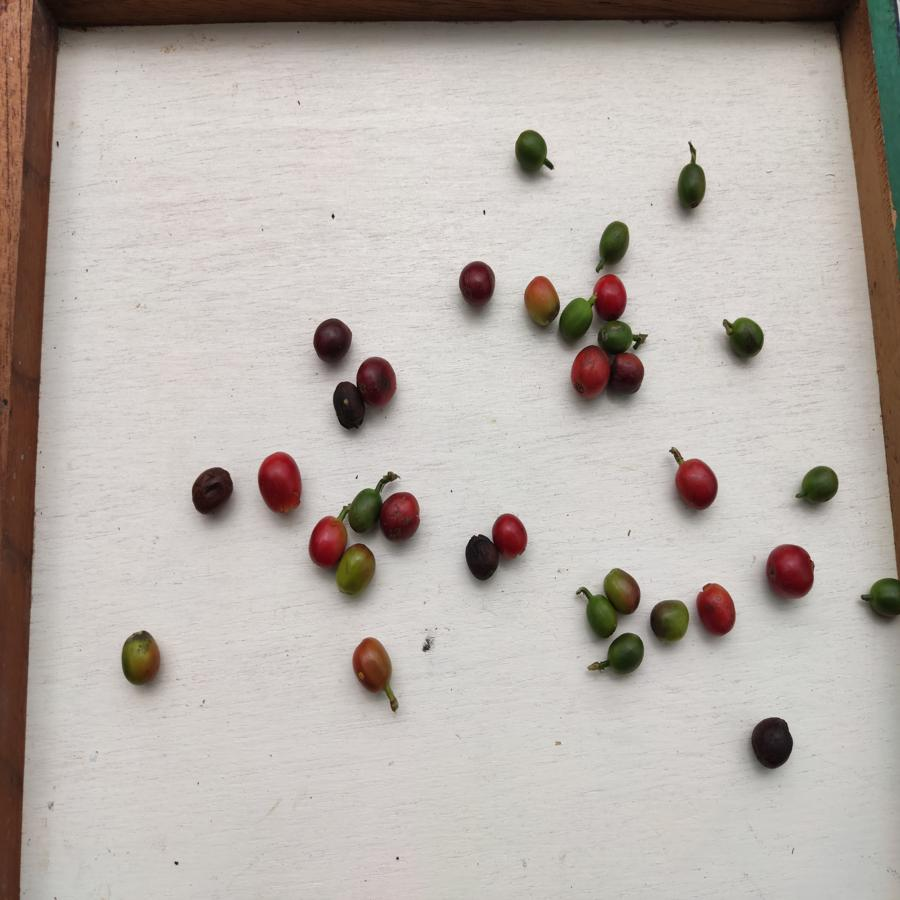Inmaduro: (649, 593, 690, 642), (513, 124, 551, 176), (724, 318, 767, 361), (583, 590, 619, 641), (797, 463, 841, 503), (673, 161, 710, 208), (595, 217, 630, 263), (609, 631, 647, 673), (867, 574, 900, 622), (558, 296, 592, 339), (346, 490, 380, 533), (597, 318, 635, 351)
Maduro: (256, 451, 305, 517), (692, 579, 739, 638), (766, 541, 816, 596), (671, 456, 720, 512), (567, 343, 611, 402), (378, 491, 425, 544), (492, 510, 531, 561), (308, 514, 345, 566), (592, 275, 630, 321)
Pinton: (118, 629, 165, 690), (352, 637, 397, 693), (336, 544, 381, 598), (522, 275, 560, 329), (605, 565, 643, 613)
Sobremaduro: (752, 712, 798, 771), (354, 354, 401, 406), (188, 465, 233, 518), (456, 259, 499, 312), (311, 318, 354, 363), (459, 532, 499, 580), (330, 379, 365, 433), (608, 354, 646, 395)
